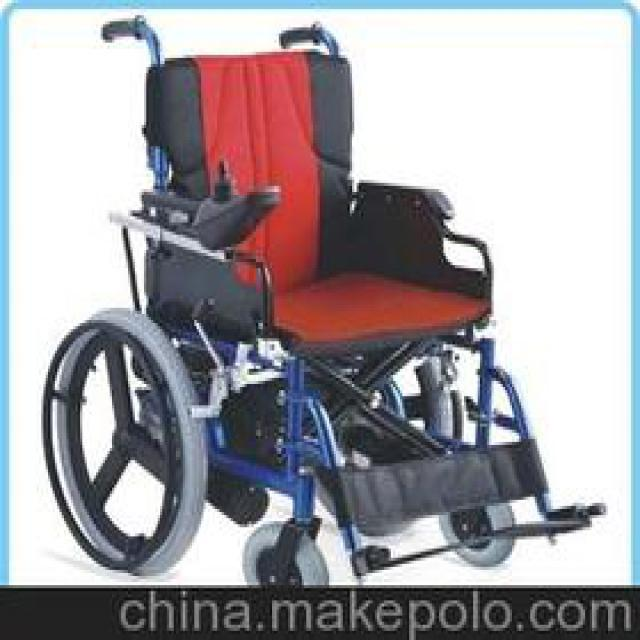wheelchair: (34, 12, 613, 585)
